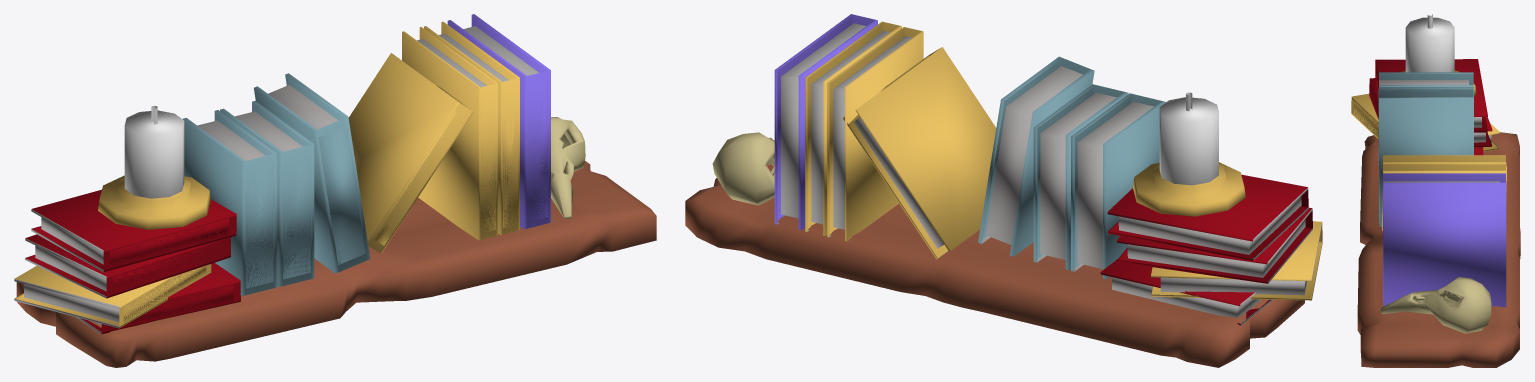
The model's file is Shelf.fbx.
The picture shows the model from 3 angles, left to right: view 1: azimuth 30°, elevation 25°; view 2: azimuth 150°, elevation 25°; view 3: azimuth 270°, elevation 25°; orthographic projection. The views are drawn at different scales.
Parts seen in each view (by area): view 1: Books, półka, Candle.001, Skull; view 2: Books, półka, Candle.001, Skull; view 3: Books, półka, Skull, Candle.001.
Boxes of the visible parts, x1,y1,x2,y2 form: Books: (14,14,550,334); półka: (16,161,656,367); Candle.001: (98,106,210,229); Skull: (551,117,585,219); Books: (774,14,1322,325); półka: (685,140,1304,367); Candle.001: (1133,92,1245,216); Skull: (712,132,774,205); Books: (1351,59,1506,307); półka: (1357,132,1520,367); Skull: (1380,277,1491,333); Candle.001: (1400,14,1476,96).
Bounding box in the file's own units: 191 × 66.58 × 58.71.
